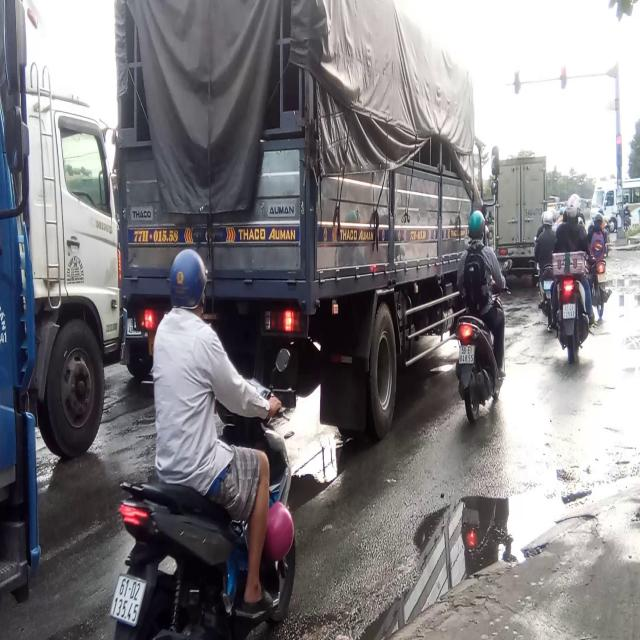bien_trang: (114, 573, 142, 622), (456, 336, 476, 368)
